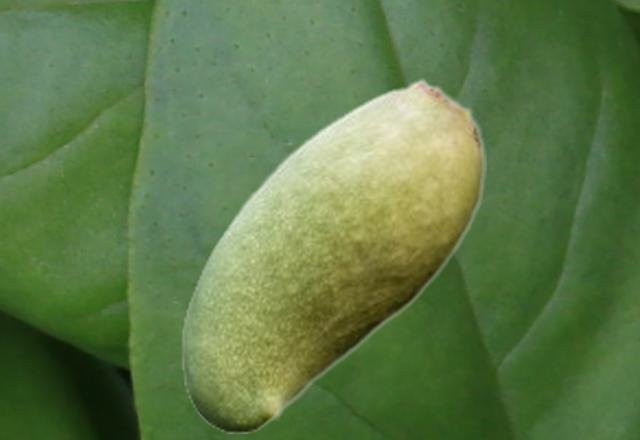green_mango: (180, 78, 485, 432)
